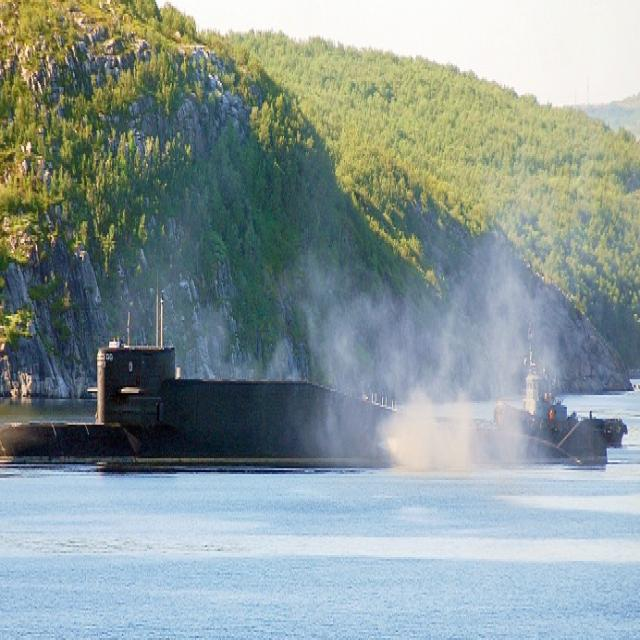submarine: (1, 284, 380, 465)
